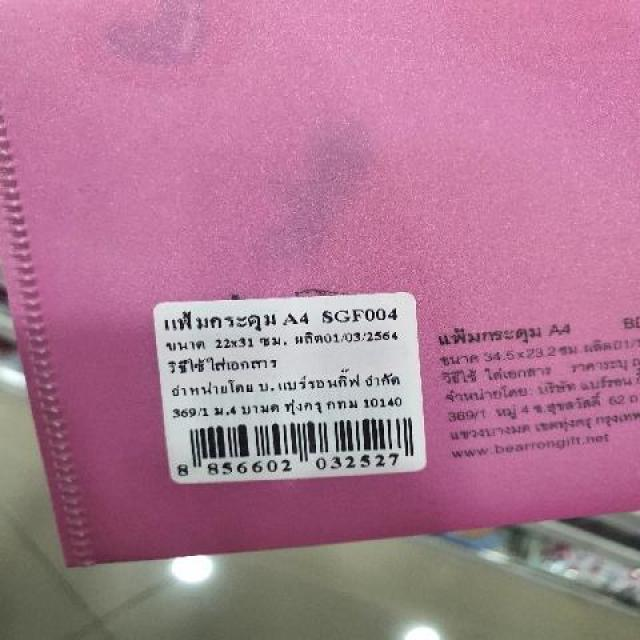Barcode: (163, 413, 425, 476)
